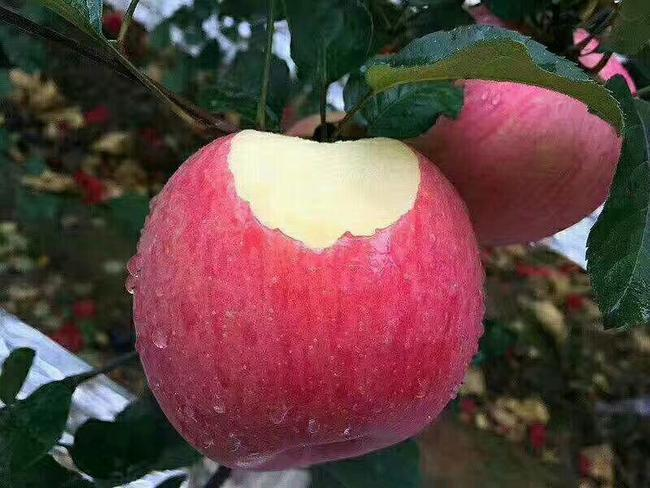apple: (126, 113, 485, 473)
